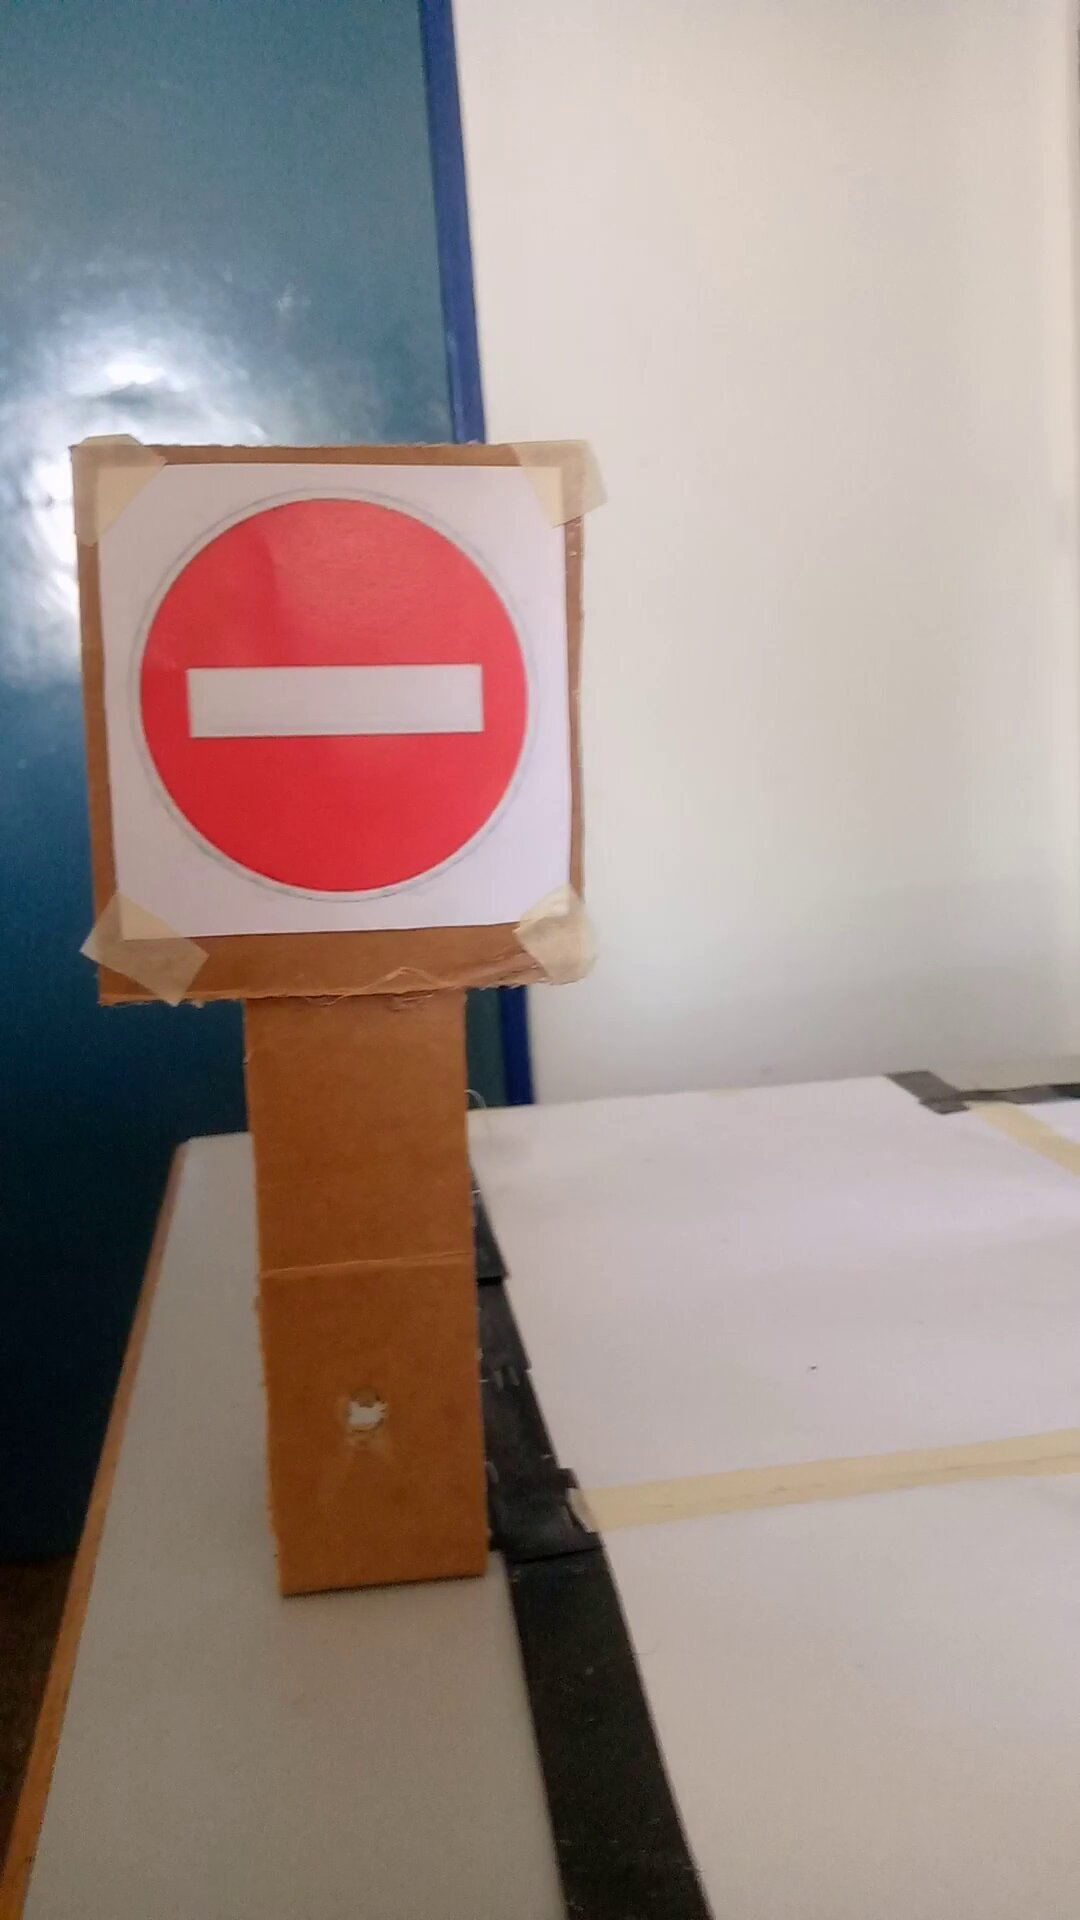panel010: (90, 451, 584, 943)
